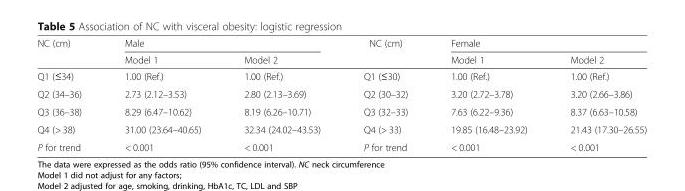table: (36, 37, 646, 152)
table column: (221, 37, 341, 152), (428, 37, 548, 152), (102, 37, 221, 152), (548, 37, 646, 152), (341, 37, 428, 152), (36, 37, 102, 152)
table column header: (36, 37, 646, 67)
table row: (36, 84, 646, 102), (36, 102, 646, 120), (36, 67, 646, 84), (36, 120, 646, 137), (36, 51, 646, 67), (36, 137, 646, 152), (36, 37, 646, 51)
table spanning cell: (102, 37, 341, 51), (428, 37, 646, 51), (341, 37, 428, 67), (36, 37, 102, 67)
